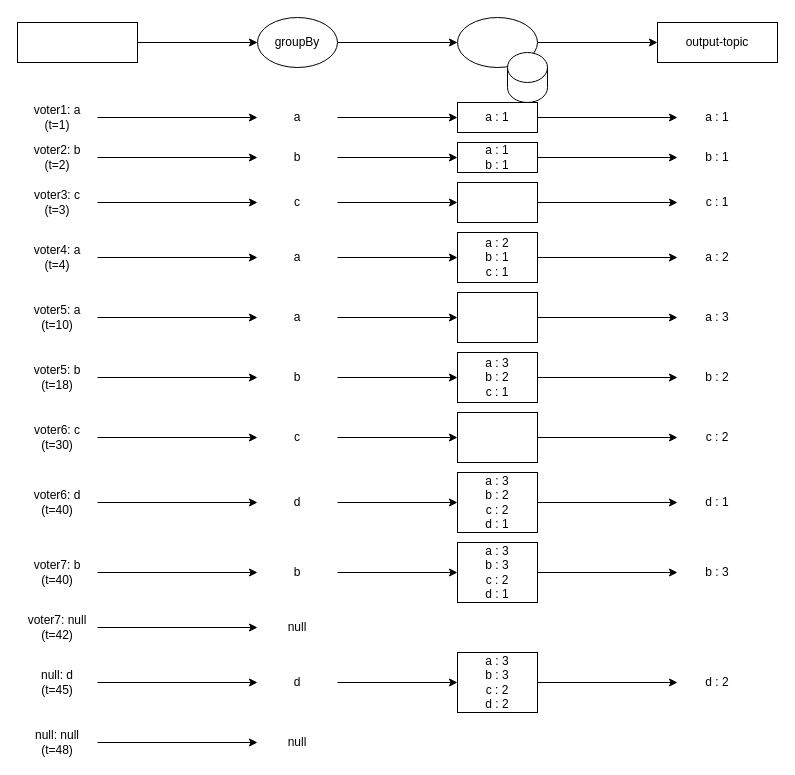
The diagram is 795 pixels wide and 775 high, and some of its shapes have lost their labels. Each missing label, with the centre of its shape:
a : 1 b : 1 c : 1: (x=497, y=202)
a : 3 b : 1 c : 1: (x=497, y=317)
a : 3 b : 2 c : 2: (x=497, y=437)
aggregate: (x=497, y=42)
input-topic: (x=77, y=42)
